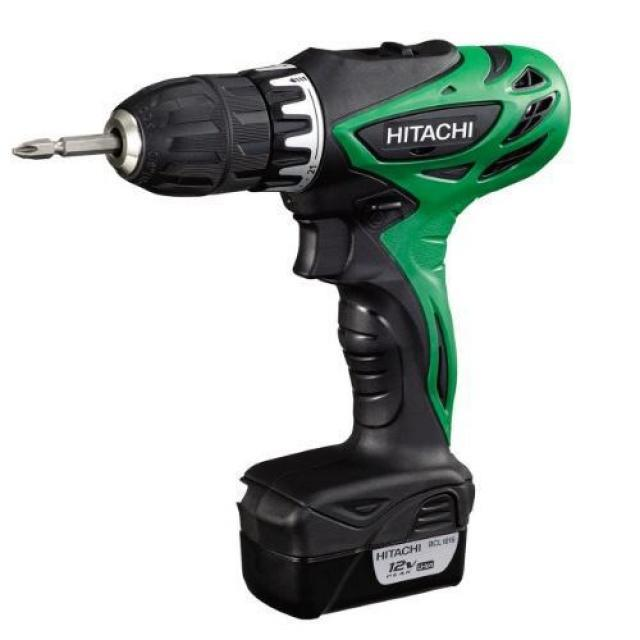drill: (12, 39, 573, 623)
